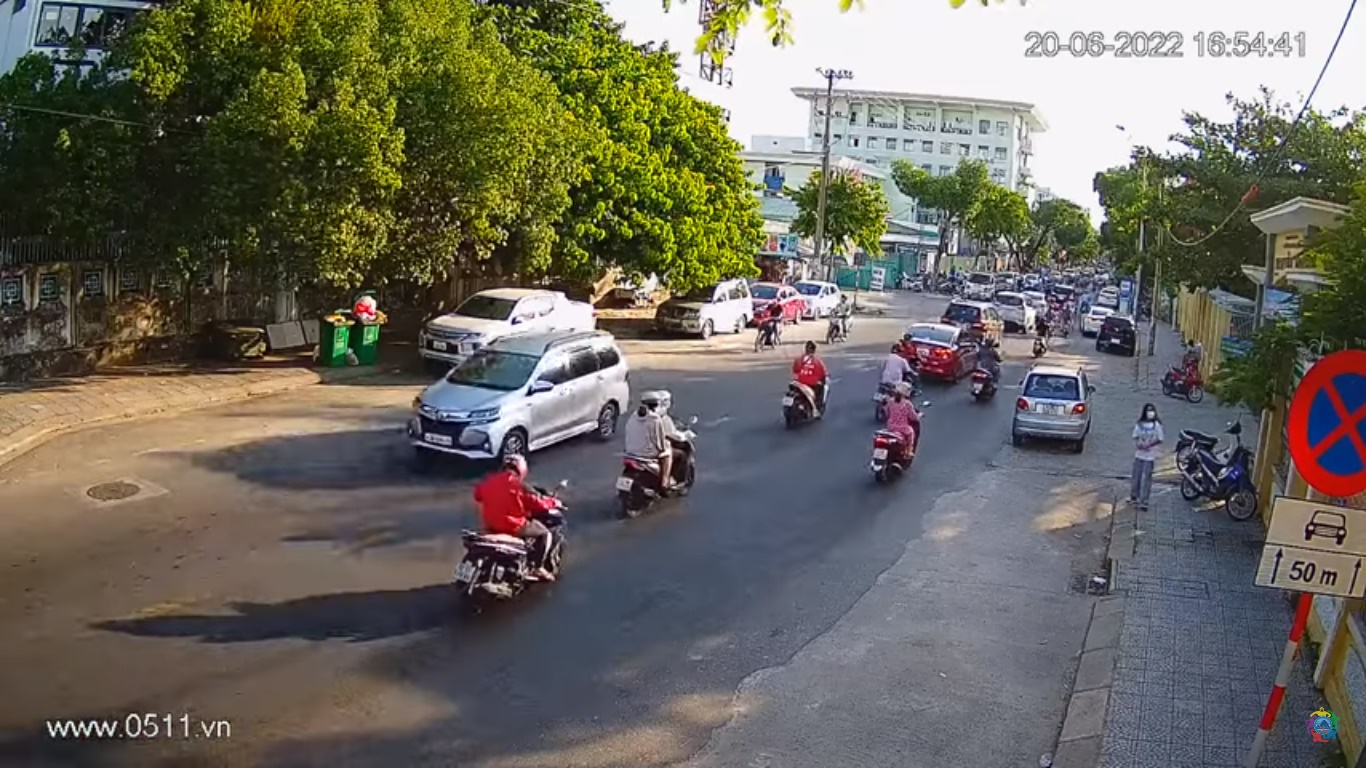car: (407, 325, 628, 464)
